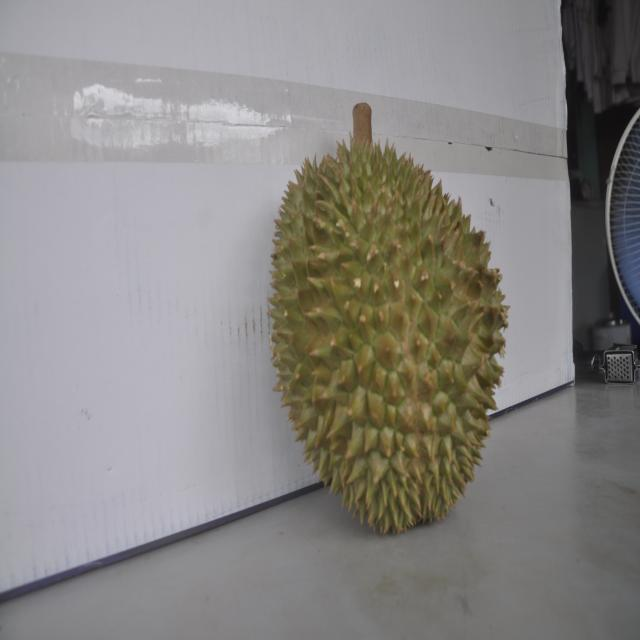mature: (270, 139, 508, 533)
